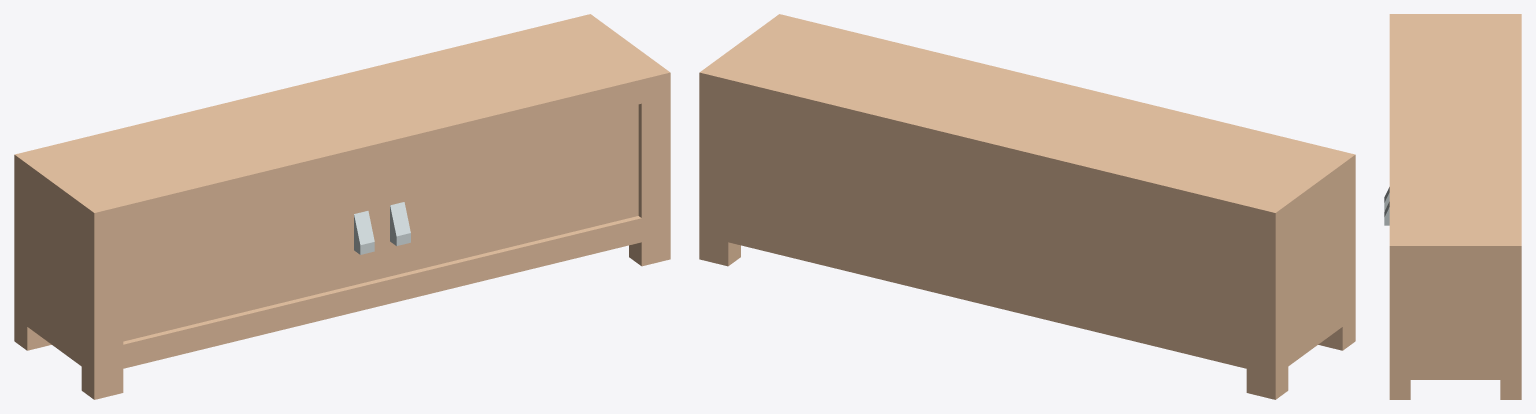
The model's file is cabinetTelevisionDoors-col.glb.
3 views of the same model, side by side, from view 1: azimuth 30°, elevation 25°; view 2: azimuth 150°, elevation 25°; view 3: azimuth 270°, elevation 25° (orthographic). The views are drawn at different scales.
Visible parts, largest first — view 1: cabinetTelevisionDoors-col; view 2: cabinetTelevisionDoors-col; view 3: cabinetTelevisionDoors-col.
Boxes of the visible parts, x1,y1,x2,y2 form: cabinetTelevisionDoors-col: (14,14,670,399); cabinetTelevisionDoors-col: (699,14,1355,399); cabinetTelevisionDoors-col: (1384,14,1521,399).
Bounding box in the file's own units: 1 × 0.31 × 0.25.
